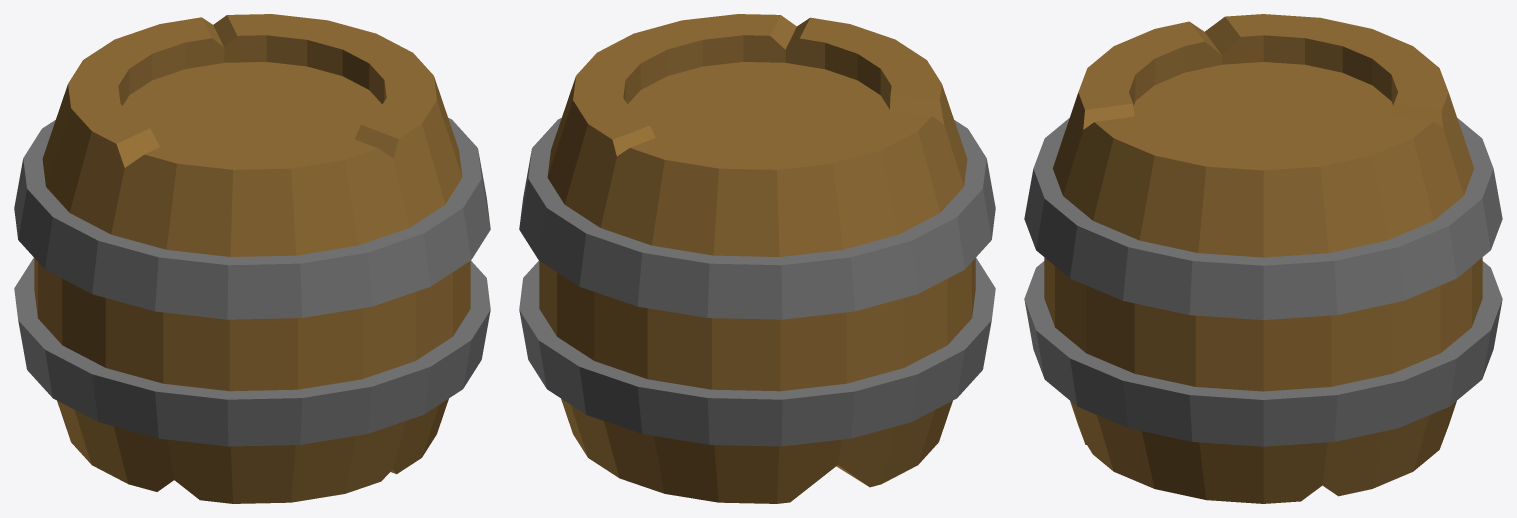
The model's file is Barrel_M.fbx.
3 views of the same model, side by side, from view 1: azimuth 30°, elevation 25°; view 2: azimuth 150°, elevation 25°; view 3: azimuth 270°, elevation 25° (orthographic).
Visible parts, largest first — view 1: Barrel1.002; view 2: Barrel1.002; view 3: Barrel1.002.
Boxes of the visible parts, x1,y1,x2,y2 form: Barrel1.002: (14,14,490,503); Barrel1.002: (519,14,995,503); Barrel1.002: (1024,14,1502,503).
Size of the model in its own units: 130 by 100 by 130.
